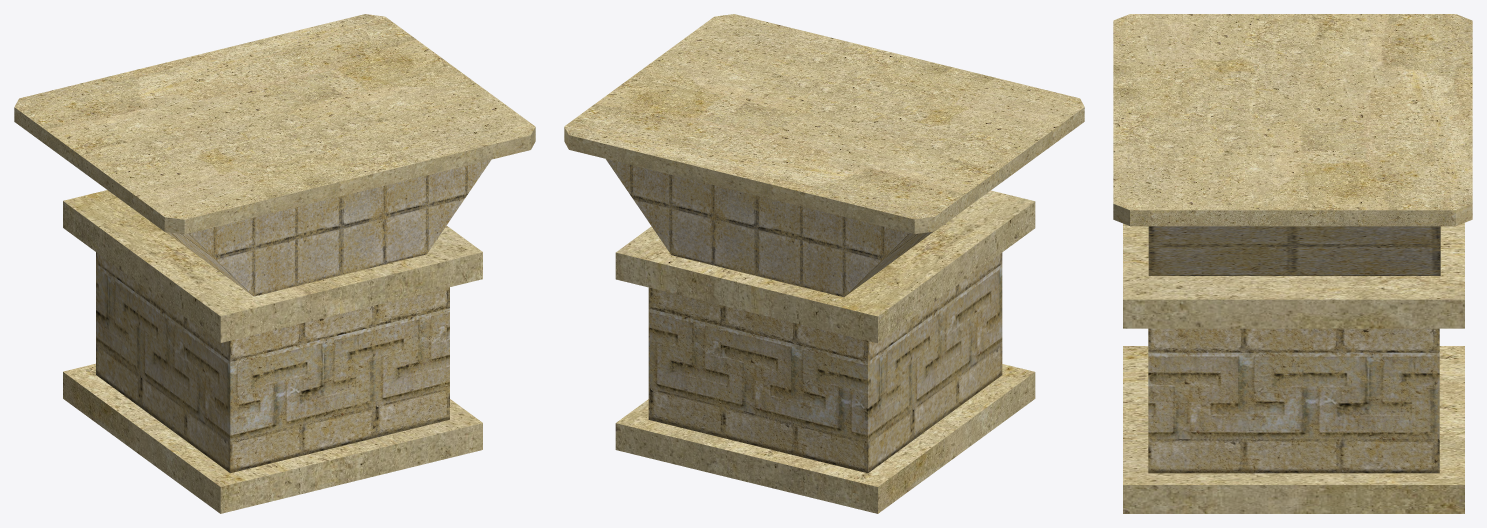
Rendered from bridge_structure_broken_pillar_top.dae.
The picture shows the model from 3 angles, left to right: view 1: azimuth 30°, elevation 25°; view 2: azimuth 150°, elevation 25°; view 3: azimuth 270°, elevation 25°; orthographic projection. The views are drawn at different scales.
Visible parts, largest first — view 1: bridge_structure_broken_pillar_top; view 2: bridge_structure_broken_pillar_top; view 3: bridge_structure_broken_pillar_top.
Boxes of the visible parts, left/top/right/bottom form: bridge_structure_broken_pillar_top: left=14, top=14, right=535, bottom=513; bridge_structure_broken_pillar_top: left=564, top=14, right=1084, bottom=513; bridge_structure_broken_pillar_top: left=1113, top=14, right=1472, bottom=513.
Bounding box in the file's own units: 6.89 × 5.33 × 5.46.
3 materials, 3 textured.
